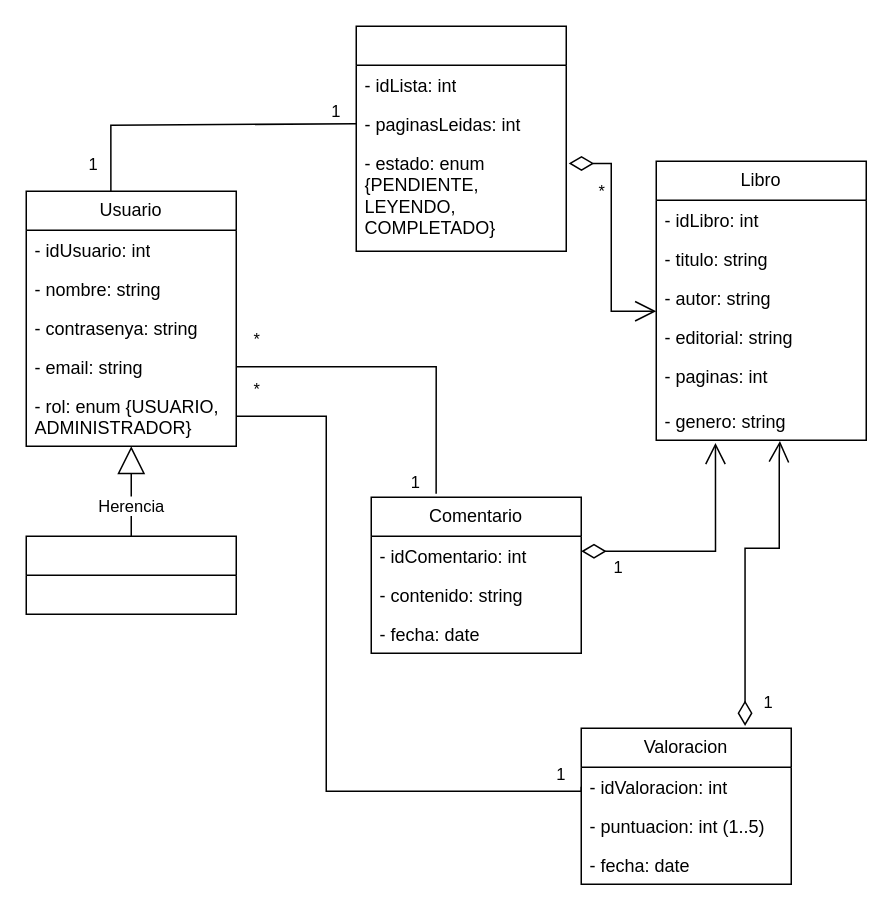
Image size: 893x915. Some labels were removed from this diagram. The box of each missing label's shape, as (x1, y1, x2, y2) in pixels:
Administrador: (25, 535, 236, 614)
ListaLectura: (355, 25, 566, 251)
